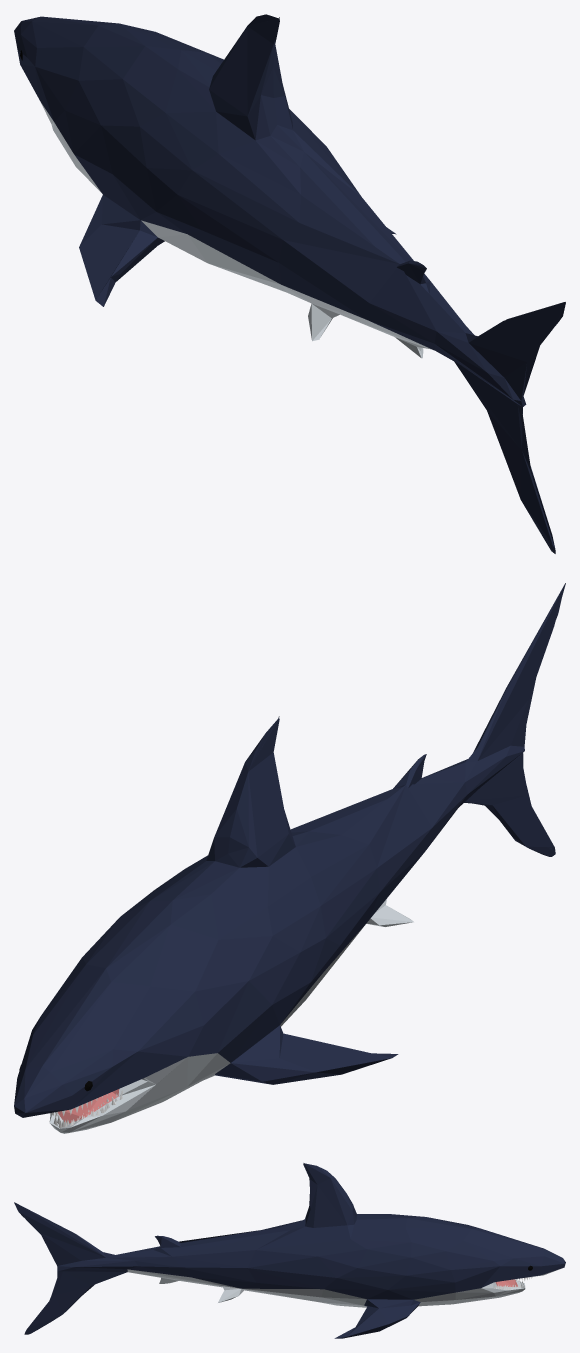
The model's file is shark.glb.
3 renders of one model, top to bottom at view 1: azimuth 30°, elevation 25°; view 2: azimuth 150°, elevation 25°; view 3: azimuth 270°, elevation 25°, orthographic. The views are drawn at different scales.
Parts seen in each view (by area): view 1: shark; view 2: shark; view 3: shark.
Boxes of the visible parts, x1,y1,x2,y2 form: shark: (14,14,565,553); shark: (14,583,565,1133); shark: (14,1163,565,1338).
Bounding box in the file's own units: 1.3 × 1.42 × 4.13.
